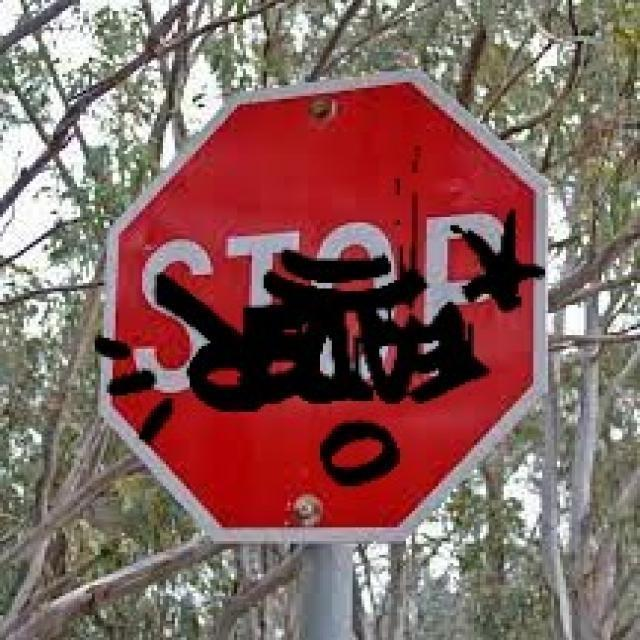Stop-Sign: (112, 82, 546, 528)
